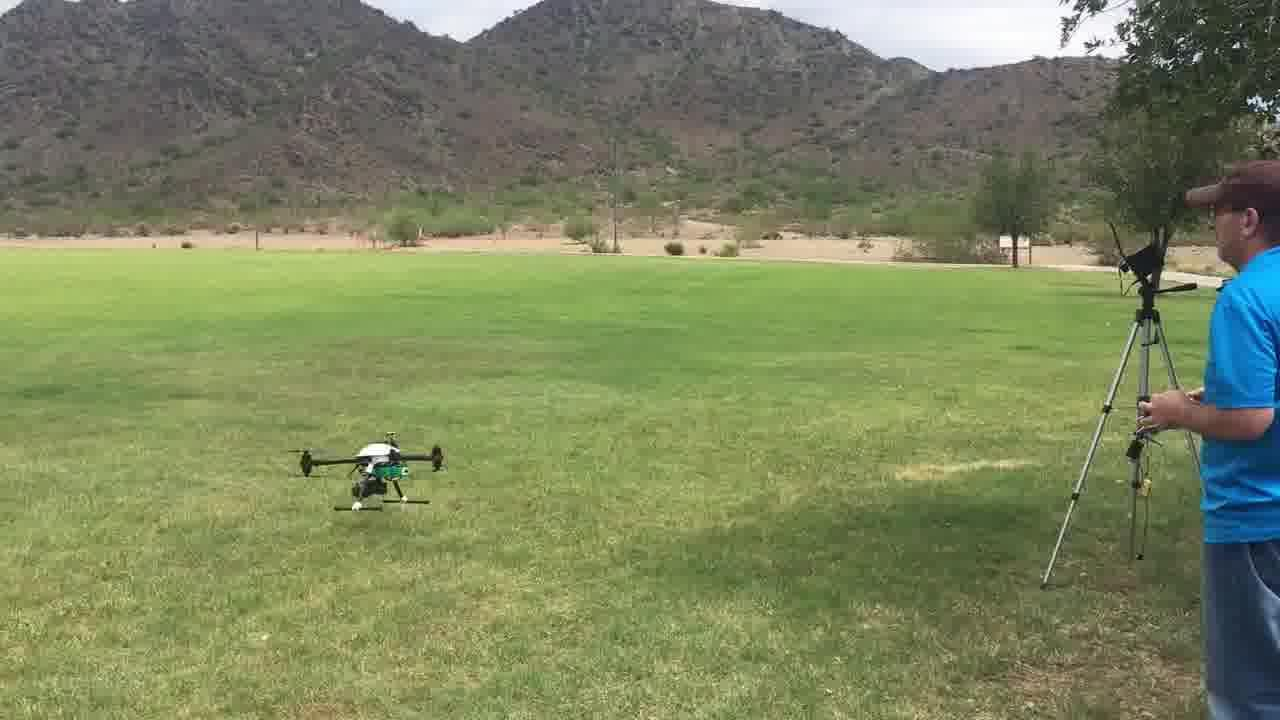drone: (279, 421, 450, 524)
